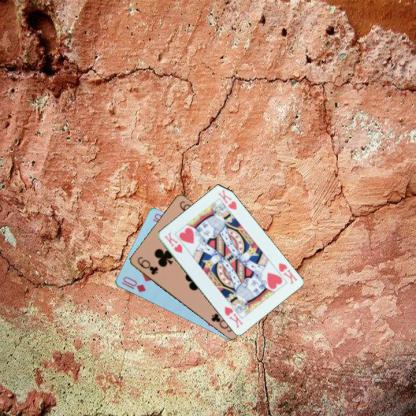10d: (118, 274, 147, 293)
6c: (134, 254, 160, 276)
Kh: (276, 260, 298, 285), (162, 230, 184, 254)
